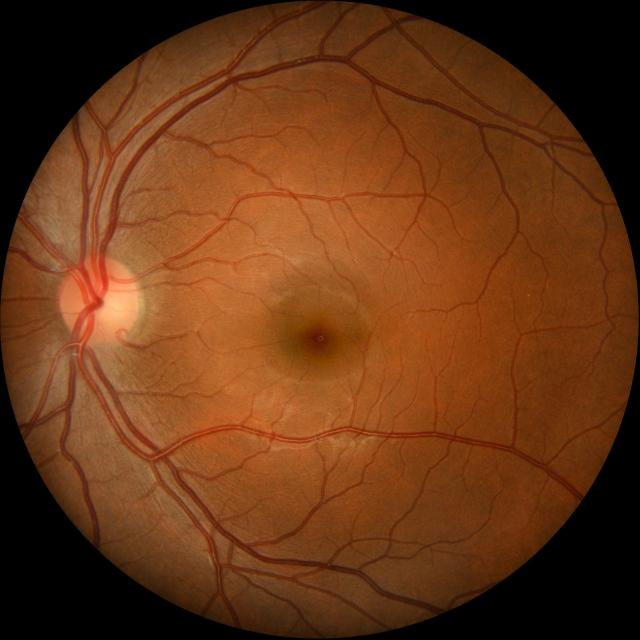OC: (90, 287, 121, 322)
OD: (60, 255, 140, 346)
